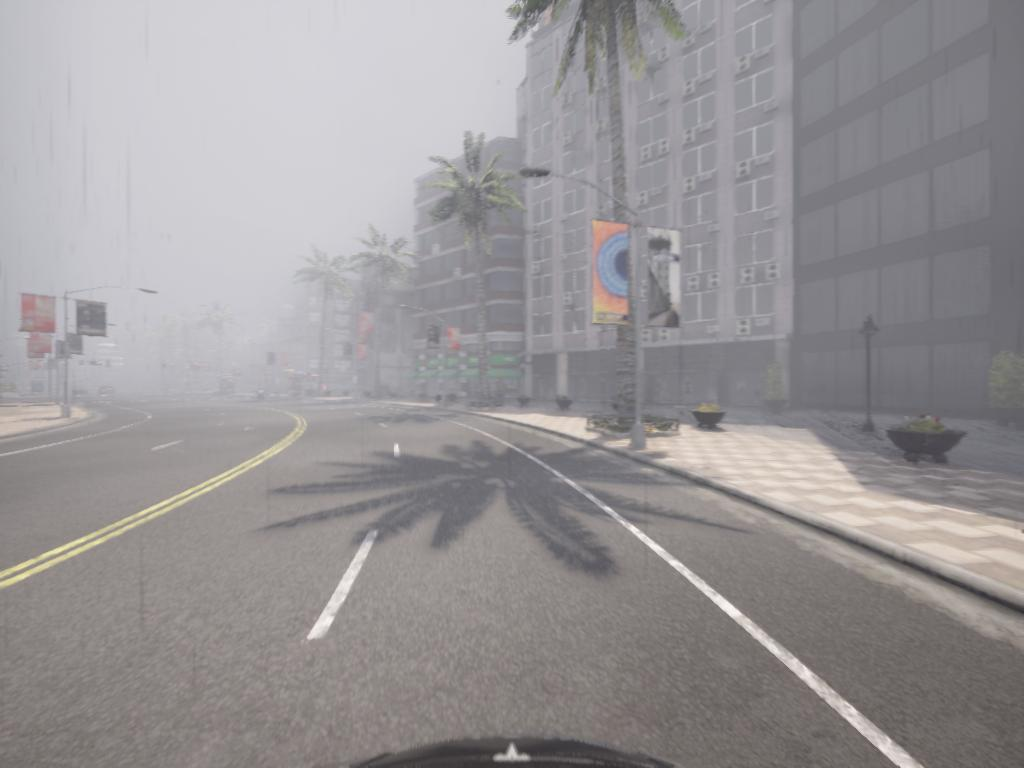traffic_light: (429, 329, 443, 351), (343, 342, 355, 361), (268, 352, 280, 369), (108, 359, 112, 369), (81, 362, 85, 369)
